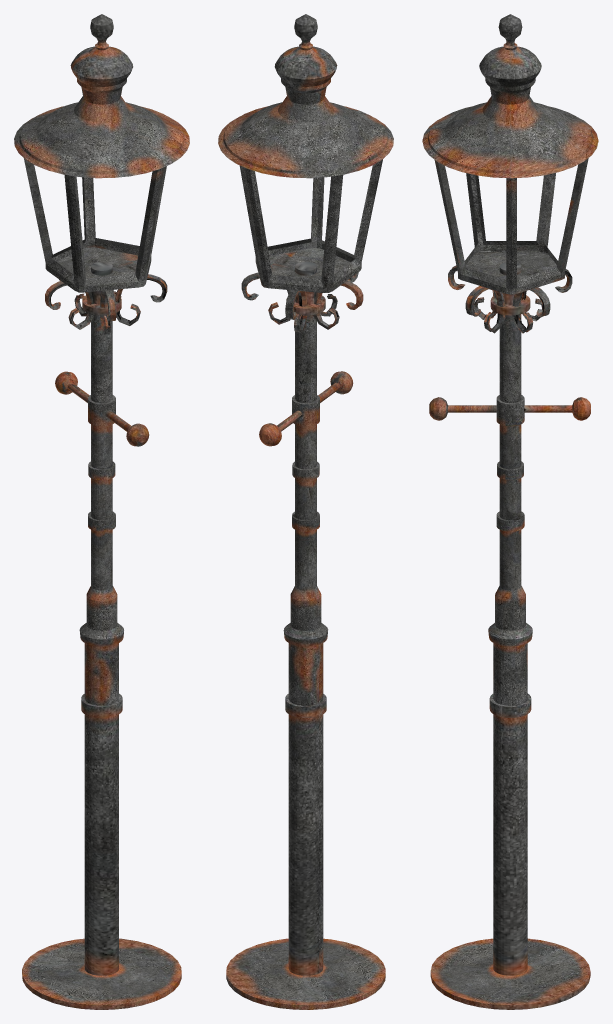
The picture shows the model from 3 angles, left to right: view 1: azimuth 30°, elevation 25°; view 2: azimuth 150°, elevation 25°; view 3: azimuth 270°, elevation 25°; orthographic projection.
Size of the model in its own units: 0.1999 by 1.2 by 0.1999.
Materials: 1 (1 with a texture image).
